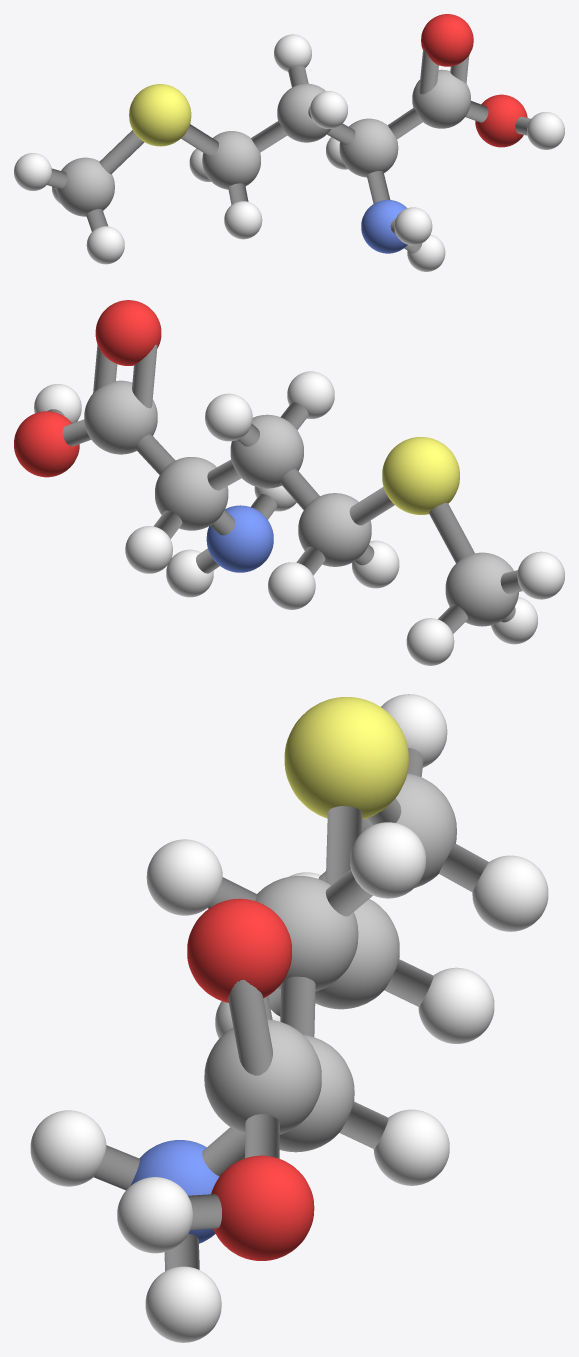
Rendered from methionine.glb.
3 renders of one model, top to bottom at view 1: azimuth 30°, elevation 25°; view 2: azimuth 150°, elevation 25°; view 3: azimuth 270°, elevation 25°, orthographic. The views are drawn at different scales.
Parts seen in each view (by area): view 1: Object_4, Object_6, Object_8, Object_5, Object_2, Object_3, Object_7; view 2: Object_4, Object_6, Object_8, Object_5, Object_2, Object_3, Object_7; view 3: Object_6, Object_4, Object_8, Object_5, Object_2, Object_3.
Part boxes in pixels (box(x1,y1,x2,y2)): Object_4: box(56, 69, 470, 216); Object_6: box(14, 34, 564, 271); Object_8: box(47, 48, 530, 253); Object_5: box(421, 14, 527, 147); Object_2: box(129, 84, 191, 146); Object_3: box(361, 200, 407, 253); Object_7: box(86, 226, 124, 264); Object_4: box(84, 380, 518, 626); Object_6: box(34, 371, 564, 665); Object_8: box(47, 344, 522, 634); Object_5: box(14, 300, 161, 477); Object_2: box(382, 437, 459, 514); Object_3: box(206, 505, 273, 572); Object_7: box(491, 597, 537, 644); Object_6: box(30, 694, 548, 1342); Object_4: box(204, 773, 456, 1152); Object_8: box(94, 748, 488, 1271); Object_5: box(187, 898, 314, 1260); Object_2: box(284, 697, 408, 819); Object_3: box(130, 1140, 219, 1243).
Size of the model in its own units: 9.63 by 4.48 by 4.48.
